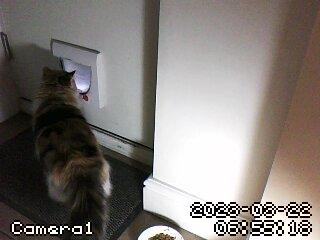clara: (30, 62, 123, 239)
